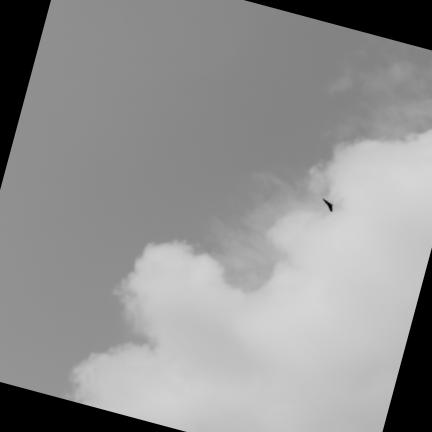Shahed: (322, 198, 332, 211)
